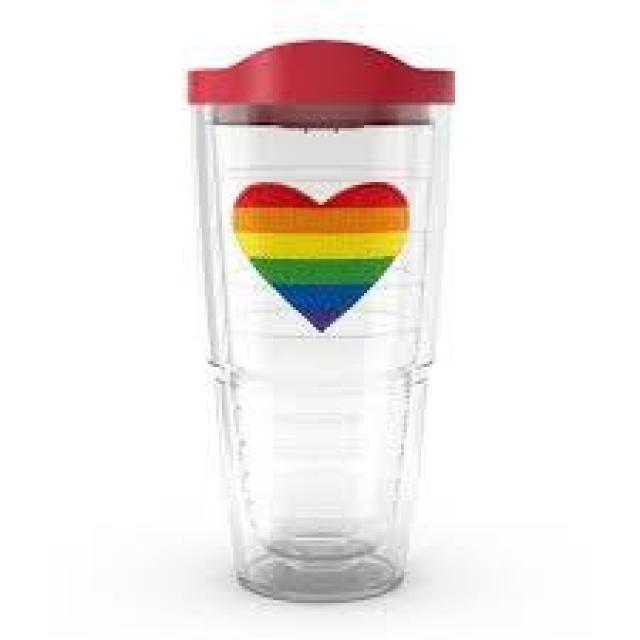bottle: (181, 37, 468, 606)
